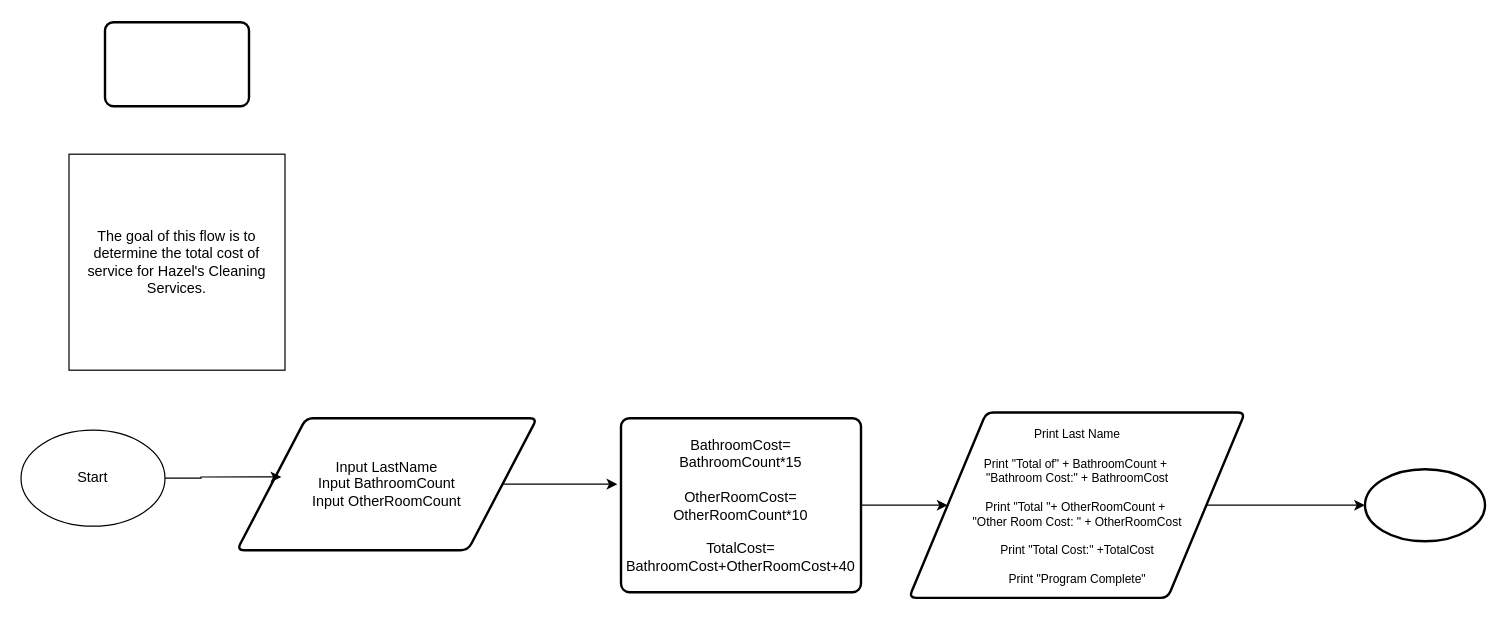
Some shapes in this 1507 by 619 pixel diagram are drawn without their labels. The shapes that lost their labels are listed below. From the top down, each one's centre as x and y in pixels, then its label:
At [176,63]: "Plan".
At [1424,504]: "Stop".
